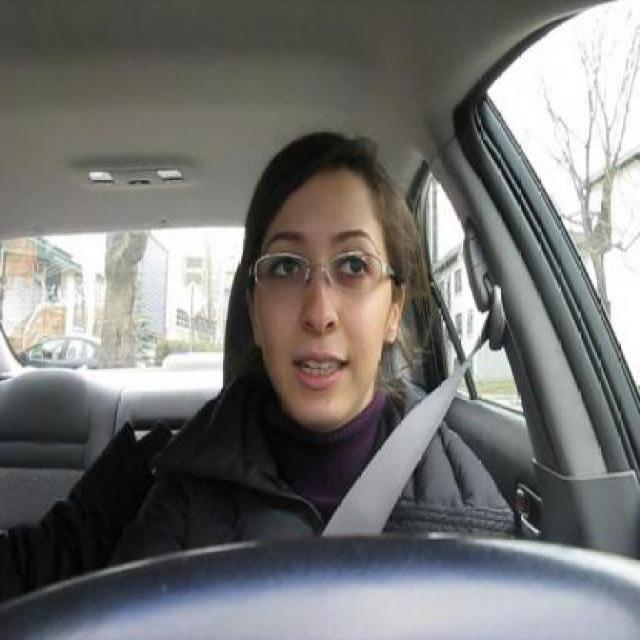seatbelt: (194, 272, 518, 563)
